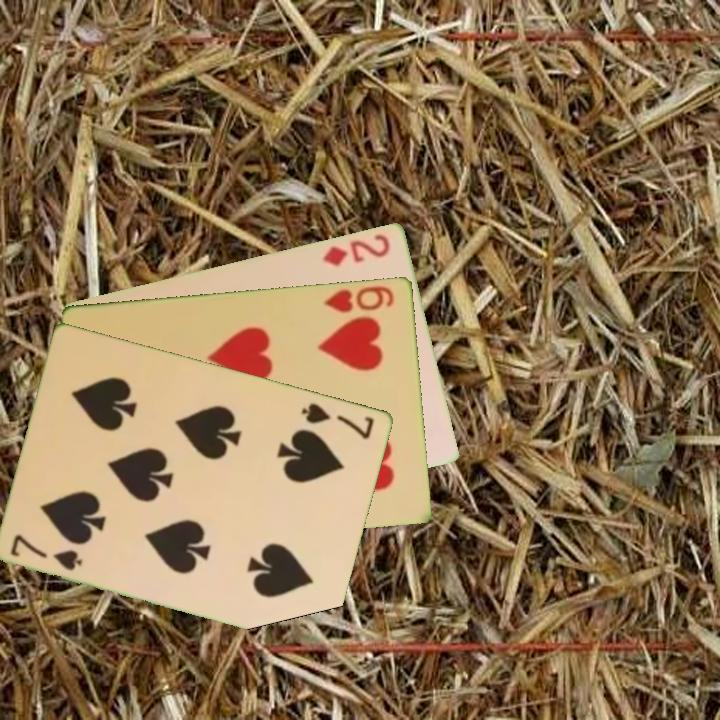2d: (319, 230, 393, 269)
6h: (320, 281, 397, 316)
7s: (298, 399, 378, 442), (7, 530, 86, 573)
